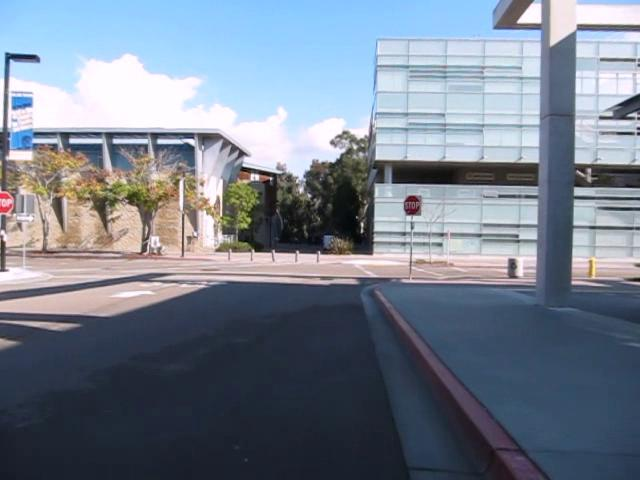stop: (403, 194, 421, 216)
